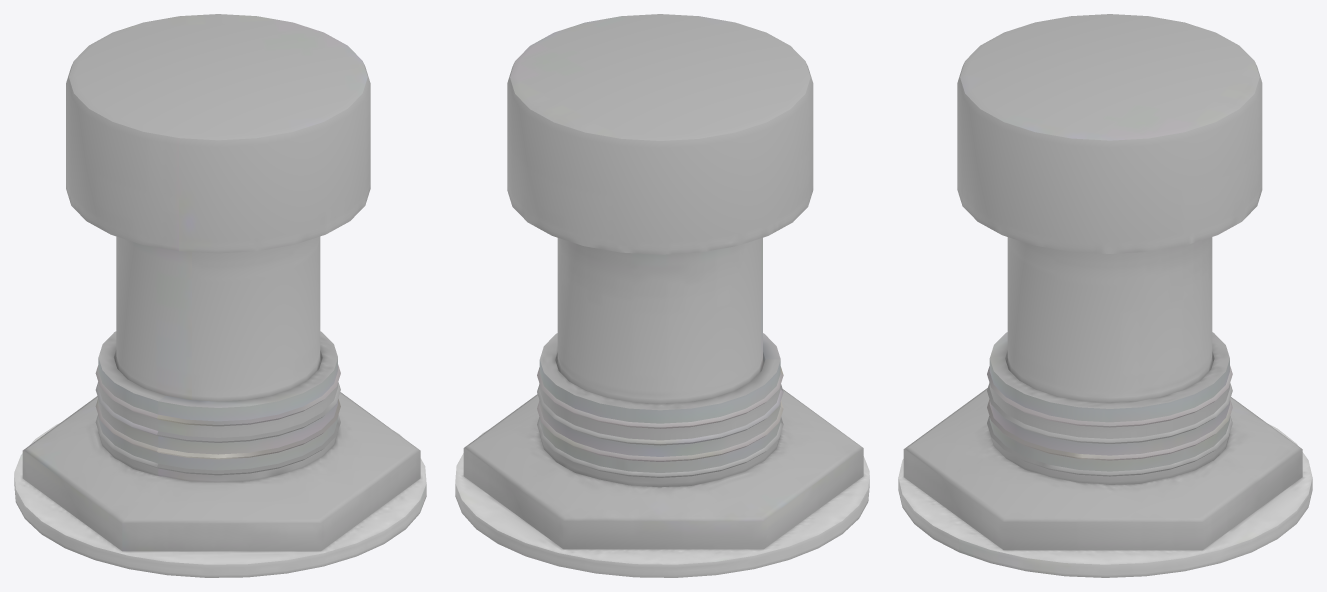
The model's file is FootSwitch-web.glb.
The picture shows the model from 3 angles, left to right: view 1: azimuth 30°, elevation 25°; view 2: azimuth 150°, elevation 25°; view 3: azimuth 270°, elevation 25°; orthographic projection.
Parts seen in each view (by area): view 1: Object_2; view 2: Object_2; view 3: Object_2.
Boxes of the visible parts, x1=… form: Object_2: x1=14, y1=14, x2=426, y2=577; Object_2: x1=455, y1=14, x2=869, y2=577; Object_2: x1=898, y1=14, x2=1312, y2=577.
Size of the model in its own units: 0.1626 by 0.18 by 0.1626.
Materials: 1 (1 with a texture image).
